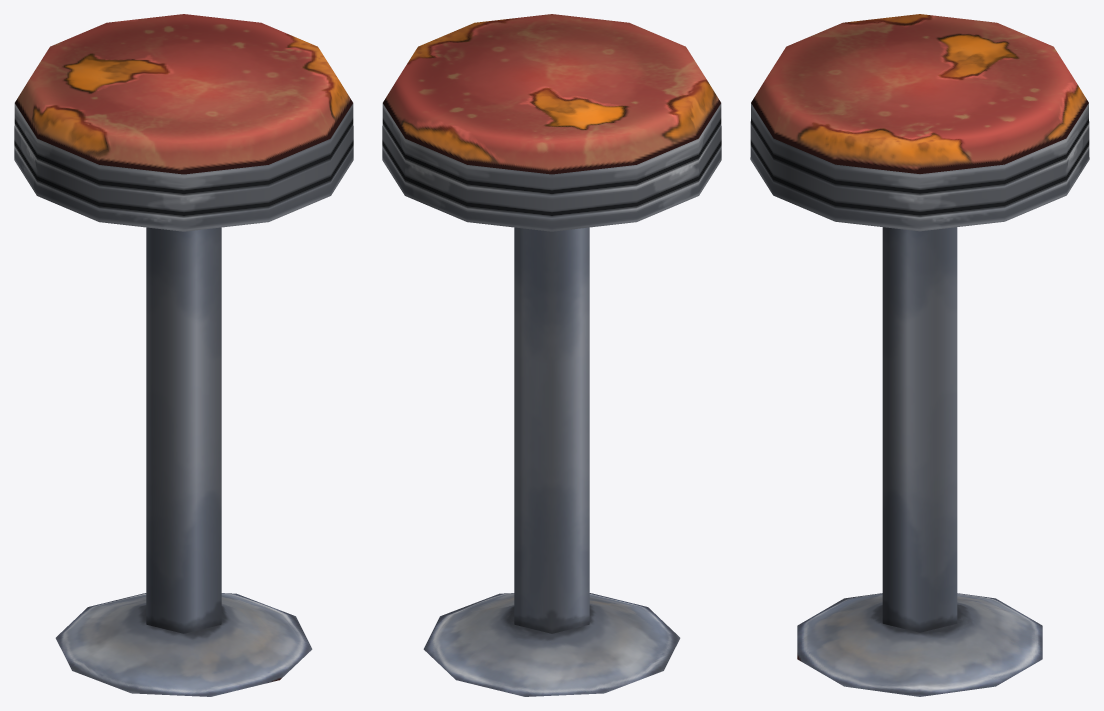
Rendered from chair07_red.fbx.
3 views of the same model, side by side, from view 1: azimuth 30°, elevation 25°; view 2: azimuth 150°, elevation 25°; view 3: azimuth 270°, elevation 25° (orthographic).
Parts seen in each view (by area): view 1: chair07_red; view 2: chair07_red; view 3: chair07_red.
Part boxes in pixels (x1=…): chair07_red: x1=14, y1=14, x2=353, y2=696; chair07_red: x1=382, y1=14, x2=721, y2=696; chair07_red: x1=750, y1=14, x2=1089, y2=696.
Size of the model in its own units: 38.19 by 70 by 38.19.
